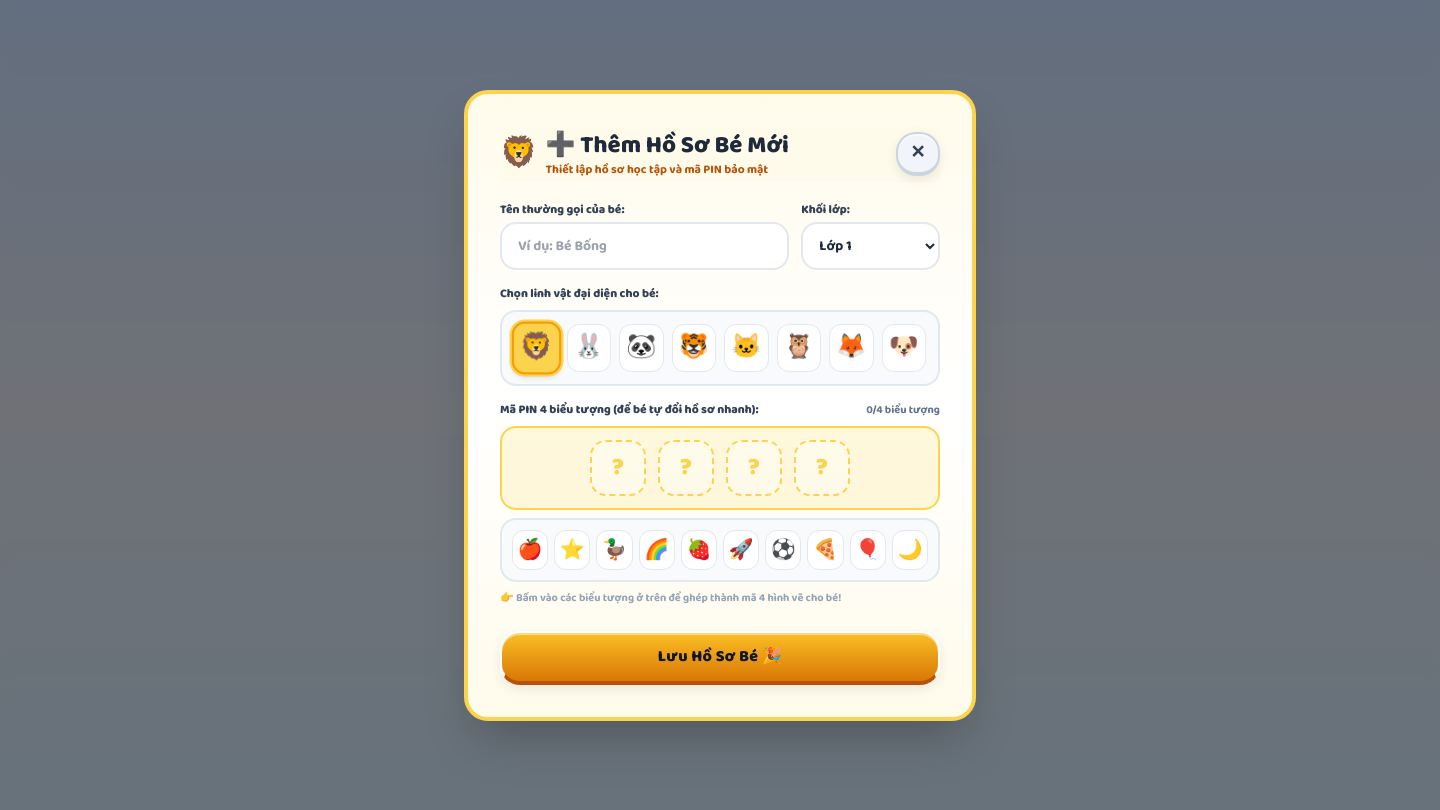
it: CreateChildModal › validates child name and requires 4 PIN icons before submission
This screenshot has width=1440, height=810.
Click submit when name is empty
Click the button with test id "submit-create-child-btn".
click(720, 658)  # box [500,630,940,684]
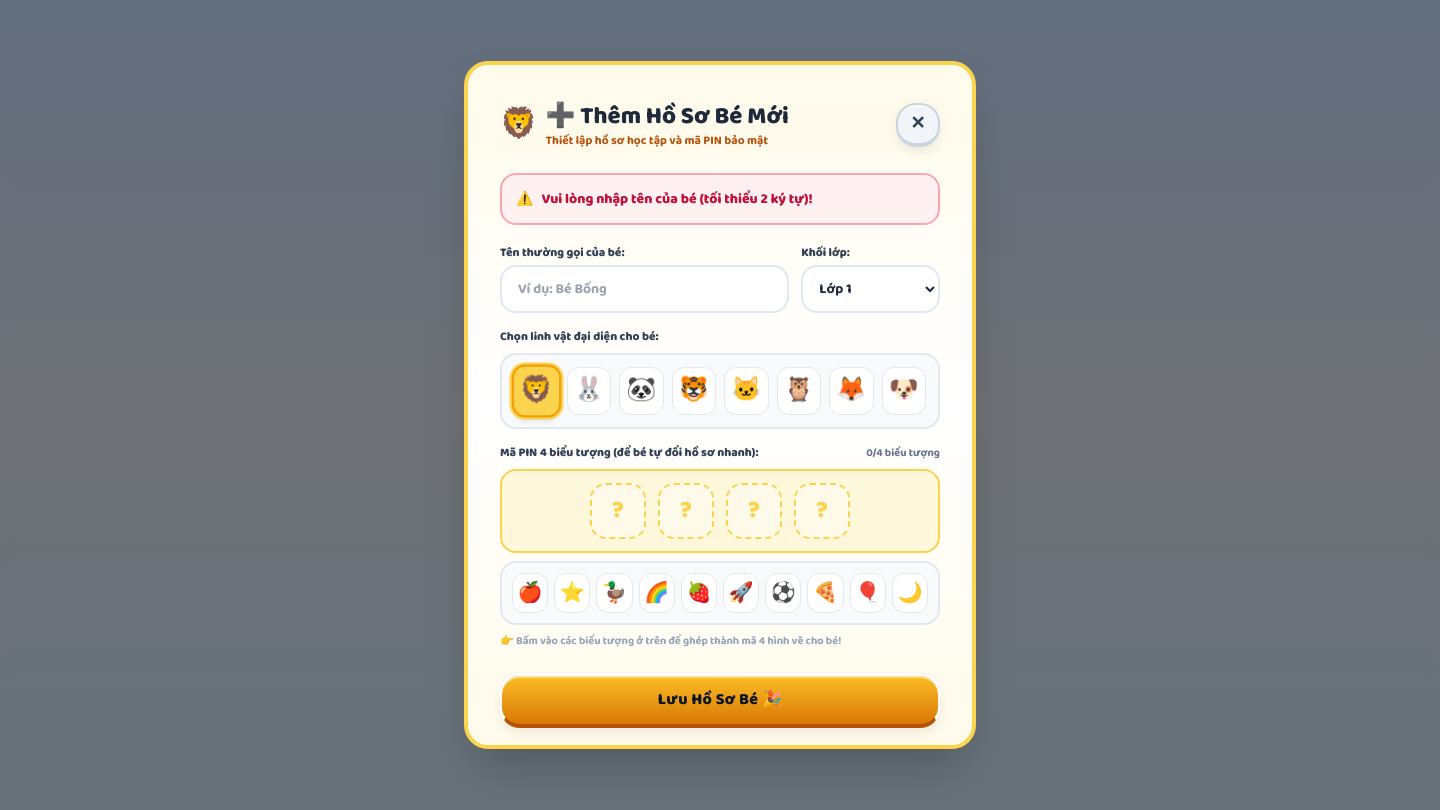
Result: the text "Vui lòng nhập tên của bé (tối thiểu 2 ký tự)!" is shown at [542,189,813,209]
Enter name
Type "Bé Bống" into the field with test id "child-name-input".
click(645, 289); type("Bé Bống")  # box [500,265,789,313]
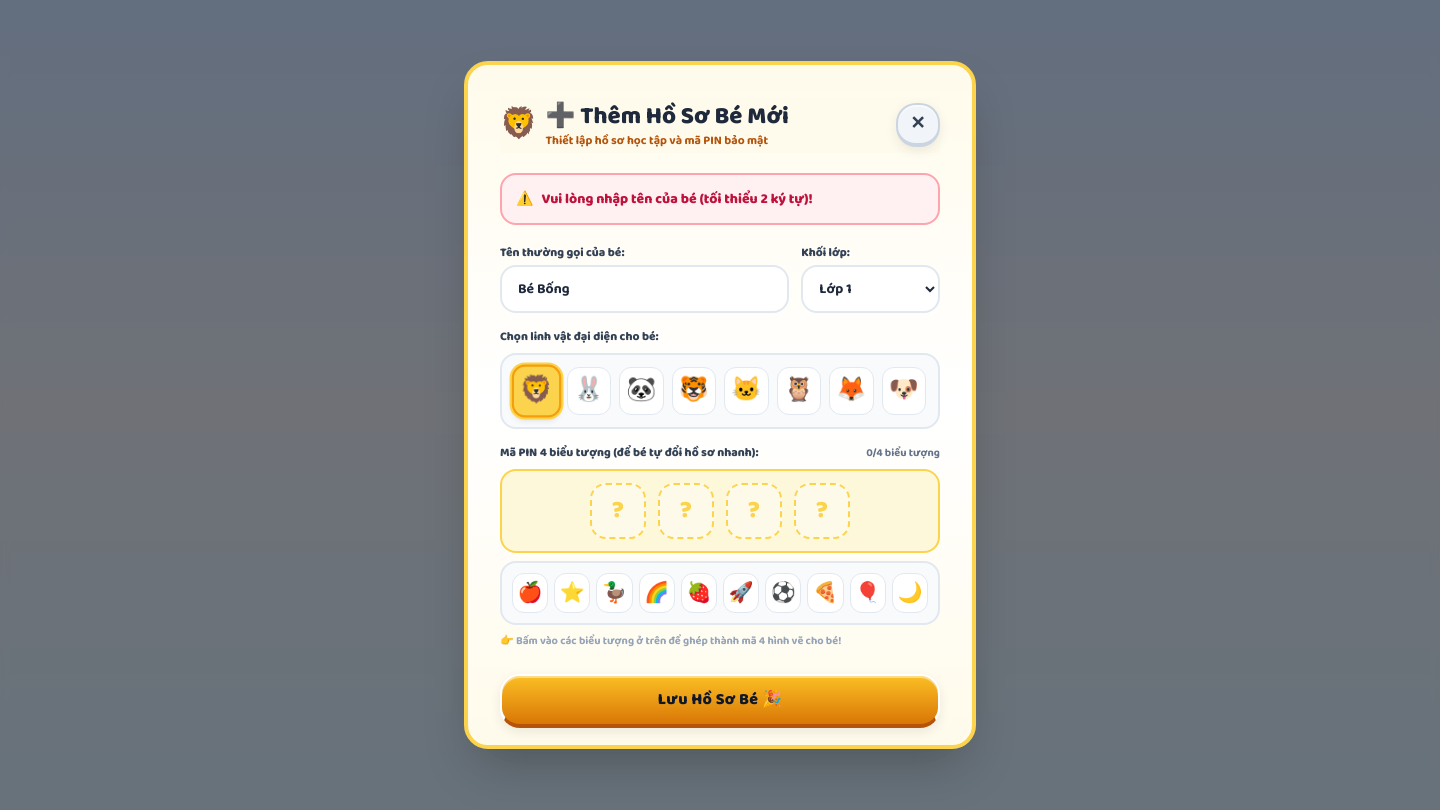
Click submit when PIN is empty
Click the button with test id "submit-create-child-btn".
click(720, 701)  # box [500,674,940,728]
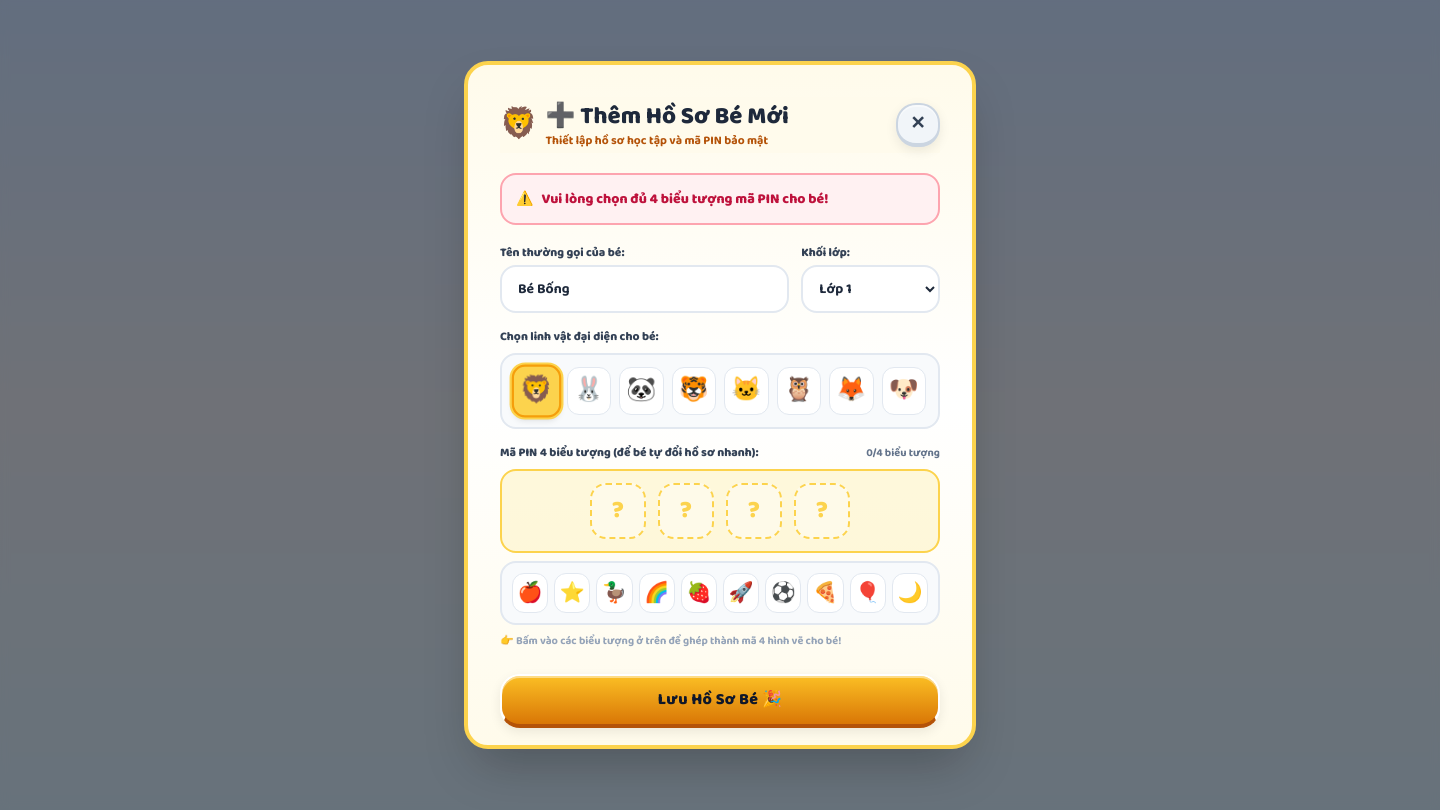
Result: the text "Vui lòng chọn đủ 4 biểu tượng mã PIN cho bé!" is shown at [542,189,828,209]
